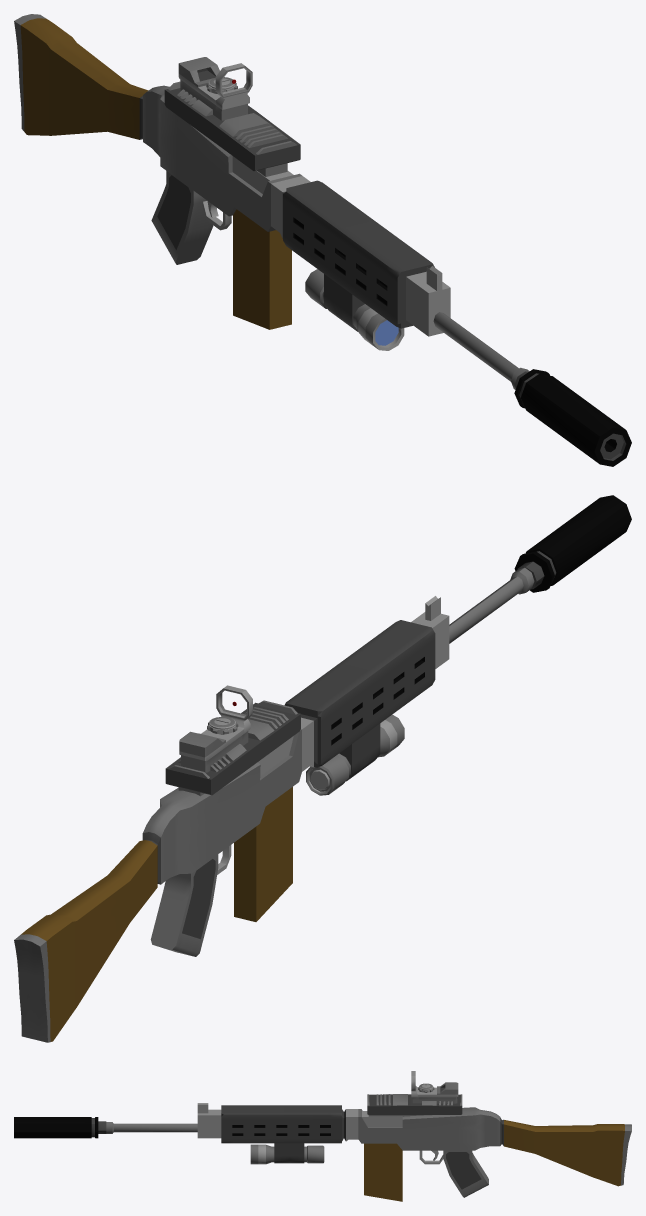
Rendered from 28-Suppressed-woodland-rifle.glb.
3 views of the same model, one above another, from view 1: azimuth 30°, elevation 25°; view 2: azimuth 150°, elevation 25°; view 3: azimuth 270°, elevation 25° (orthographic). The views are drawn at different scales.
Visible parts, largest first — view 1: Suppressed woodland rifle; view 2: Suppressed woodland rifle; view 3: Suppressed woodland rifle.
Part boxes in pixels (bbox=[...]): Suppressed woodland rifle: bbox=[14, 14, 631, 466]; Suppressed woodland rifle: bbox=[14, 495, 631, 1042]; Suppressed woodland rifle: bbox=[14, 1071, 631, 1201].
Bounding box in the file's own units: 0.0504 × 0.251 × 1.12.
1 material, 1 textured.
